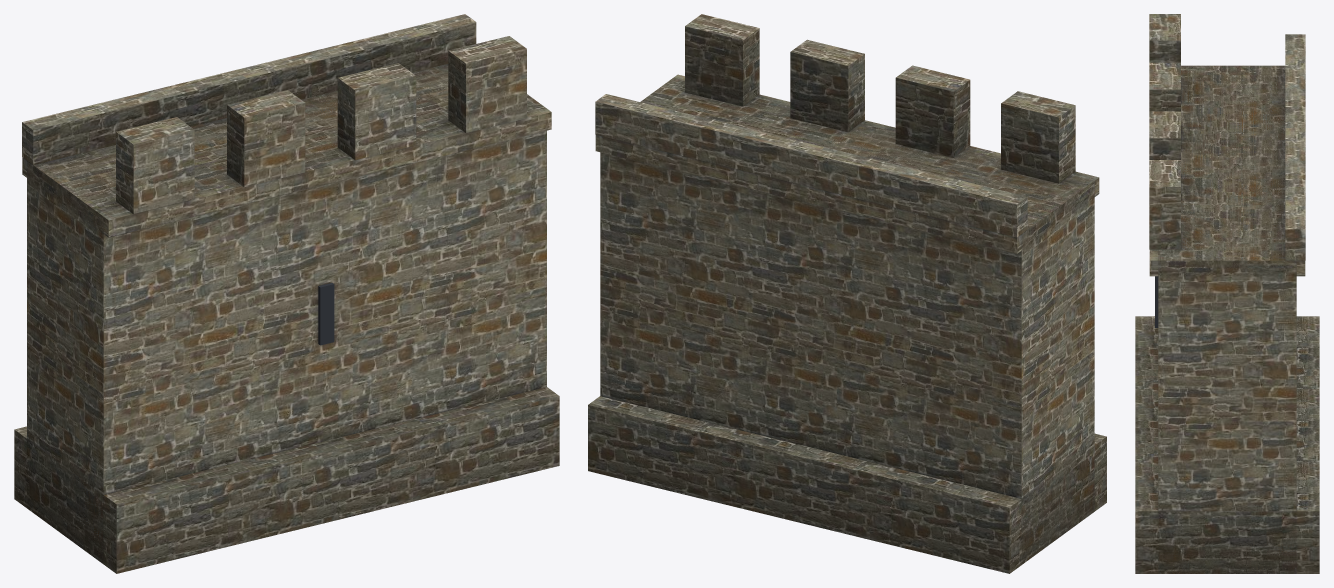
The model's file is wall_stone.glb.
3 renders of one model, left to right at view 1: azimuth 30°, elevation 25°; view 2: azimuth 150°, elevation 25°; view 3: azimuth 270°, elevation 25°, orthographic. The views are drawn at different scales.
Parts seen in each view (by area): view 1: wall_stone; view 2: wall_stone; view 3: wall_stone.
Boxes of the visible parts, x1,y1,x2,y2 form: wall_stone: (14, 14, 559, 573); wall_stone: (588, 14, 1106, 573); wall_stone: (1135, 14, 1319, 573).
Size of the model in its own units: 8 by 7.2 by 3.2.
2 materials, 1 textured.
